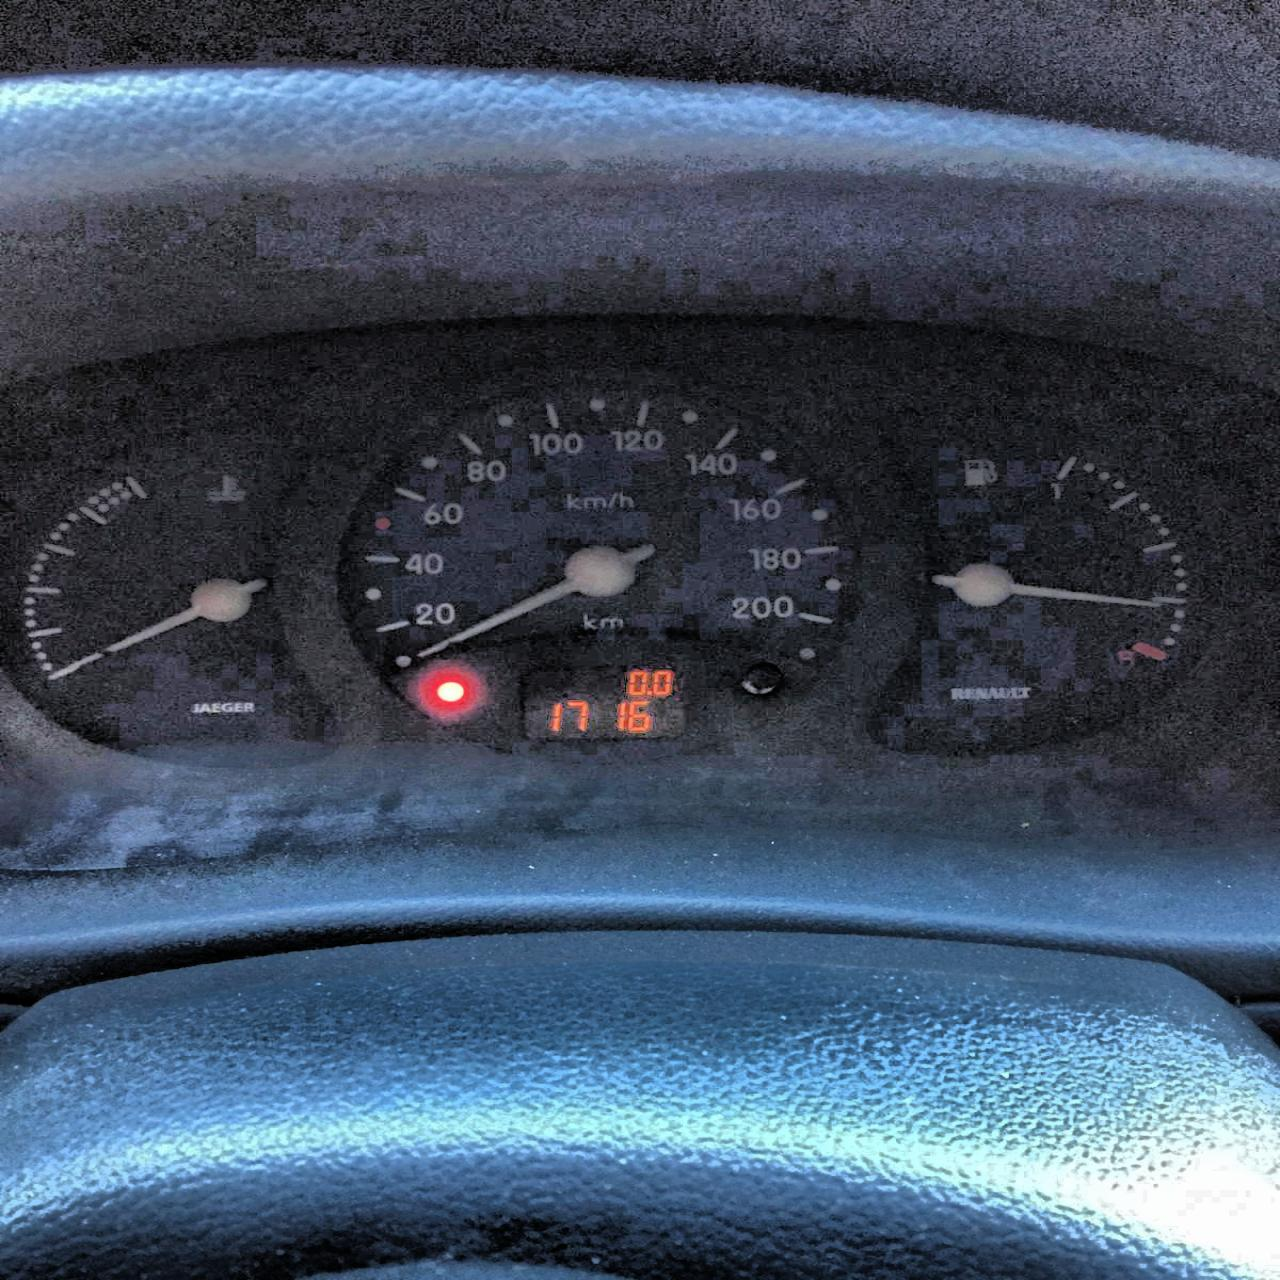-: (645, 689, 652, 694)
0: (627, 670, 647, 695), (652, 670, 670, 694)
1: (551, 702, 560, 730), (617, 701, 625, 729)
6: (626, 700, 648, 730)
7: (565, 700, 587, 730)
odometer: (517, 660, 693, 742)
